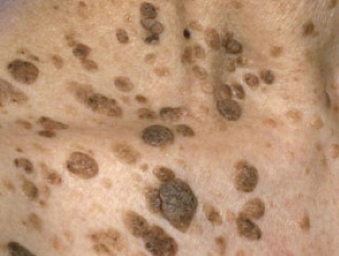seborrheic keratosis: (32, 134, 281, 254)
